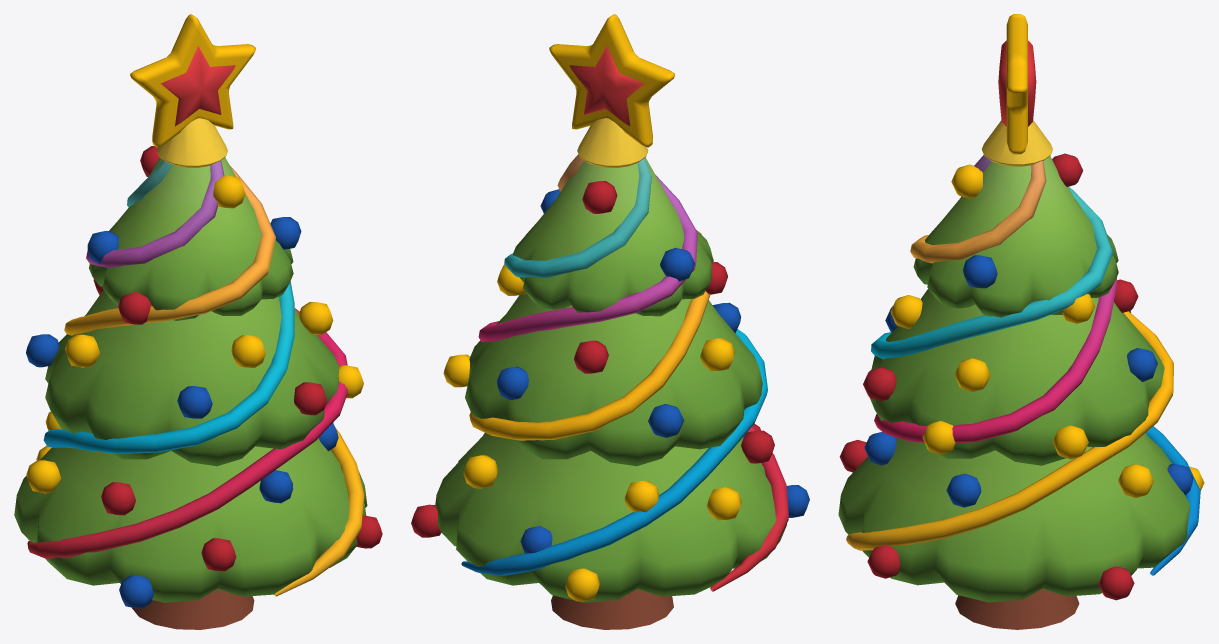
The model's file is Christmass_tree_indoor_001.fbx.
3 views of the same model, side by side, from view 1: azimuth 30°, elevation 25°; view 2: azimuth 150°, elevation 25°; view 3: azimuth 270°, elevation 25° (orthographic).
Visible parts, largest first — view 1: Christmass_tree_indoor_001, Christmass_tree_indoor_001_toys; view 2: Christmass_tree_indoor_001, Christmass_tree_indoor_001_toys; view 3: Christmass_tree_indoor_001, Christmass_tree_indoor_001_toys.
Part boxes in pixels (left/top/right/bottom): Christmass_tree_indoor_001: left=14, top=157, right=367, bottom=629; Christmass_tree_indoor_001_toys: left=26, top=14, right=382, bottom=608; Christmass_tree_indoor_001: left=435, top=157, right=786, bottom=629; Christmass_tree_indoor_001_toys: left=411, top=14, right=809, bottom=601; Christmass_tree_indoor_001: left=838, top=156, right=1190, bottom=629; Christmass_tree_indoor_001_toys: left=839, top=14, right=1204, bottom=600.
Bounding box in the file's own units: 1.59 × 2.87 × 1.62.
